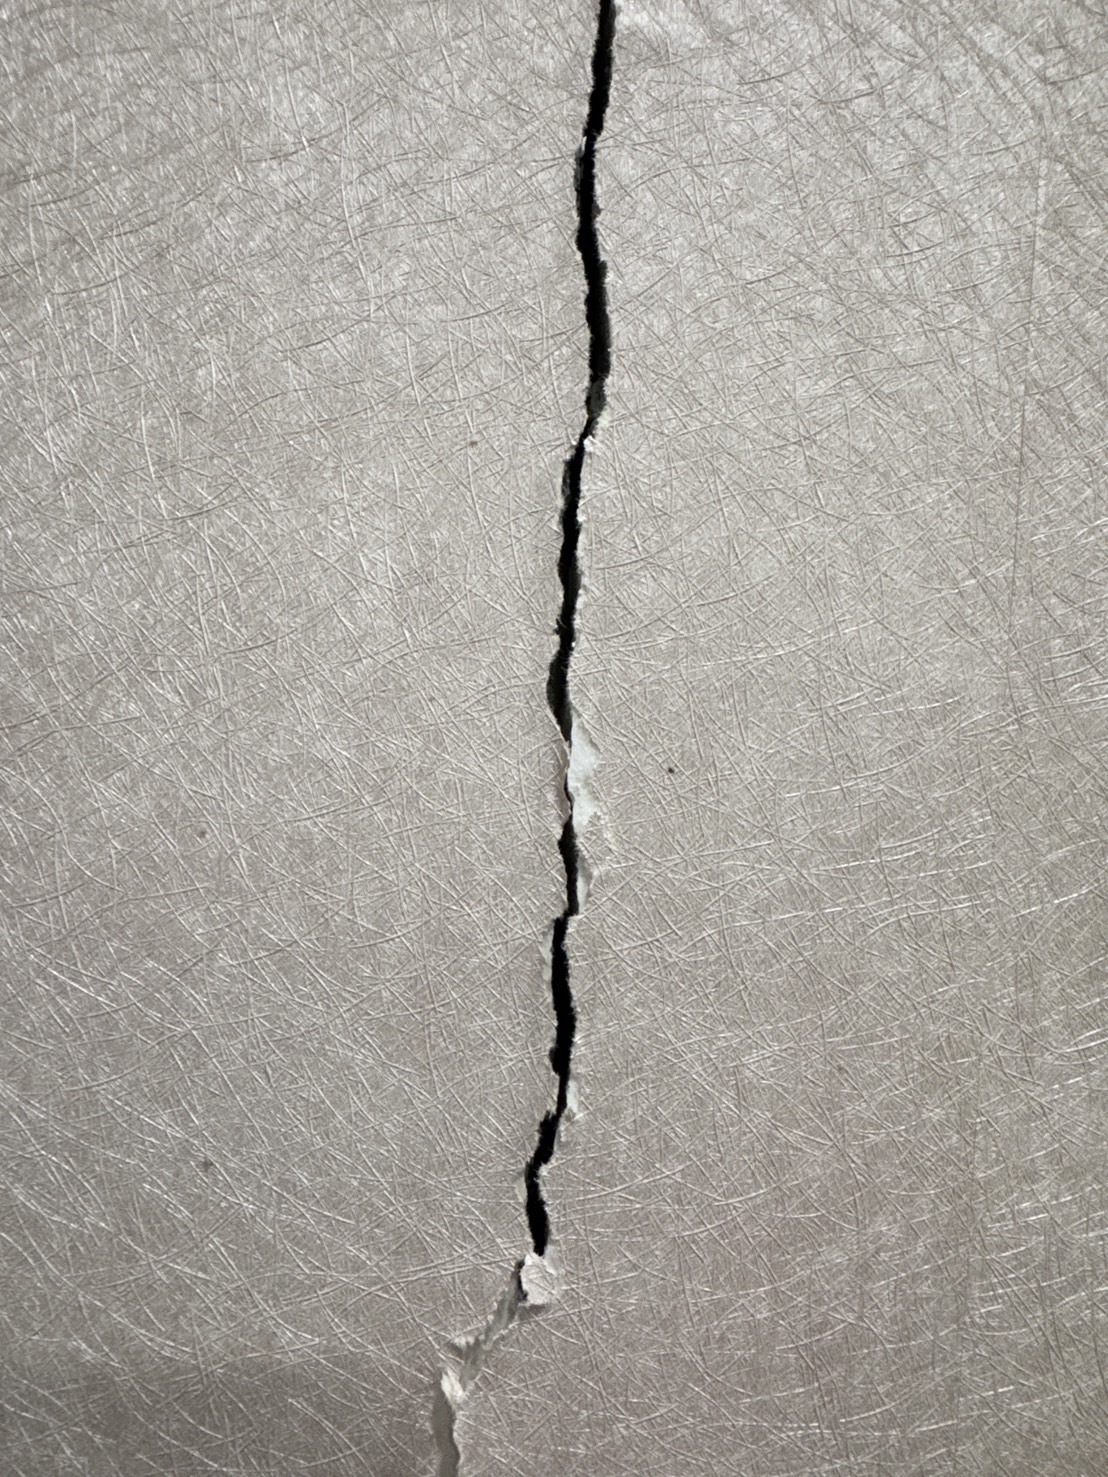Medium: (296, 74, 845, 1365)
